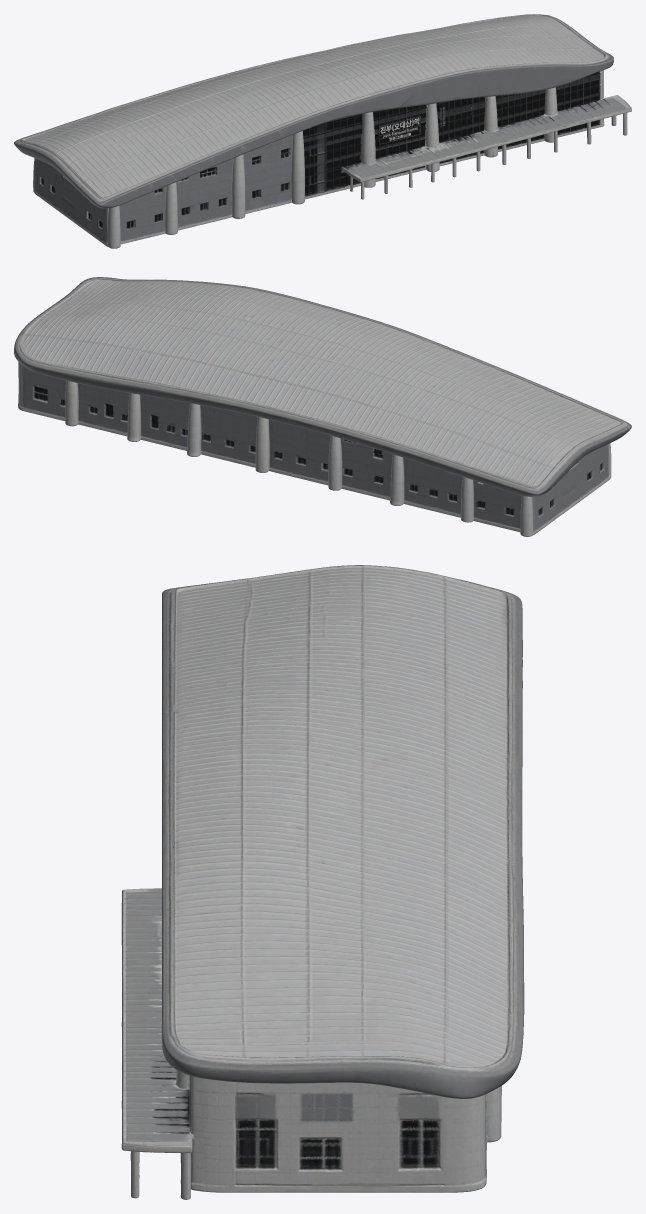
Rendered from jinbu-station.glb.
3 views of the same model, one above another, from view 1: azimuth 30°, elevation 25°; view 2: azimuth 150°, elevation 25°; view 3: azimuth 270°, elevation 25° (orthographic). The views are drawn at different scales.
Bounding box in the file's own units: 1.9 × 0.3405 × 0.6295.
Materials: 1 (1 with a texture image).
